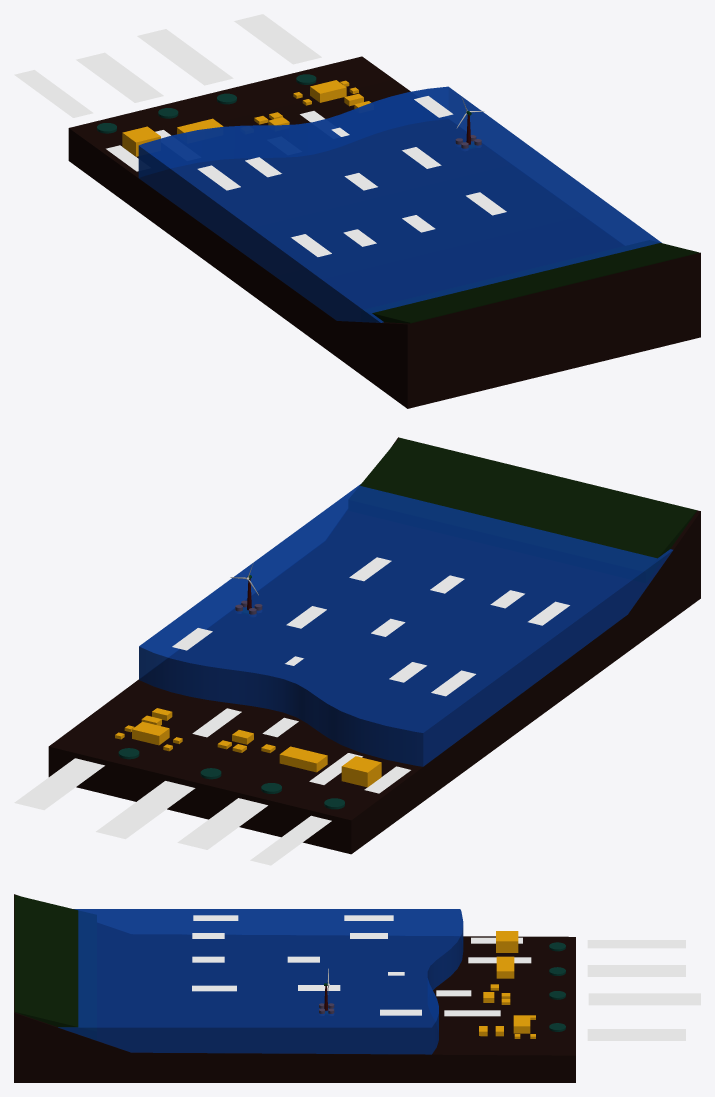
3 views of the same model, one above another, from view 1: azimuth 30°, elevation 25°; view 2: azimuth 150°, elevation 25°; view 3: azimuth 270°, elevation 25° (orthographic). The views are drawn at different scales.
Visible parts, largest first — view 1: Box002, Line003, Box004, Plane002, Plane001, Plane003, Plane004, Box021, Box008; view 2: Box002, Line003, Box004, Plane002, Plane001, Plane003, Plane004, Box021, Box020, Box008; view 3: Box002, Line003, Box004, Plane002, Plane001, Plane003, Plane004, Box021, Box020, Plane005, Box008, Plane016 (+1 smaller).
Boxes of the visible parts, left/top/right/bottom form: Box002: left=68, top=56, right=700, bottom=408; Line003: left=138, top=86, right=661, bottom=322; Box004: left=361, top=240, right=698, bottom=323; Plane002: left=137, top=29, right=233, bottom=85; Plane001: left=234, top=14, right=321, bottom=64; Plane003: left=76, top=52, right=163, bottom=102; Plane004: left=14, top=70, right=93, bottom=117; Box021: left=122, top=126, right=160, bottom=156; Box008: left=310, top=80, right=346, bottom=102; Box002: left=48, top=437, right=700, bottom=854; Line003: left=139, top=483, right=672, bottom=766; Box004: left=349, top=437, right=696, bottom=582; Plane002: left=96, top=781, right=195, bottom=839; Plane001: left=14, top=758, right=104, bottom=810; Plane003: left=177, top=798, right=267, bottom=849; Plane004: left=250, top=815, right=331, bottom=865; Box021: left=341, top=756, right=381, bottom=787; Box020: left=279, top=746, right=327, bottom=772; Box008: left=132, top=721, right=169, bottom=745; Box002: left=14, top=894, right=575, bottom=1082; Line003: left=58, top=909, right=463, bottom=1054; Box004: left=14, top=895, right=96, bottom=1039; Plane002: left=588, top=993, right=700, bottom=1005; Plane001: left=587, top=1029, right=685, bottom=1040; Plane003: left=587, top=965, right=685, bottom=976; Plane004: left=587, top=940, right=685, bottom=948; Box021: left=496, top=931, right=518, bottom=952; Box020: left=496, top=956, right=514, bottom=978; Plane005: left=444, top=1010, right=500, bottom=1016; Box008: left=513, top=1015, right=530, bottom=1033; Plane016: left=468, top=957, right=531, bottom=963.
Bounding box in the file's own units: 20 × 7.44 × 48.89.
